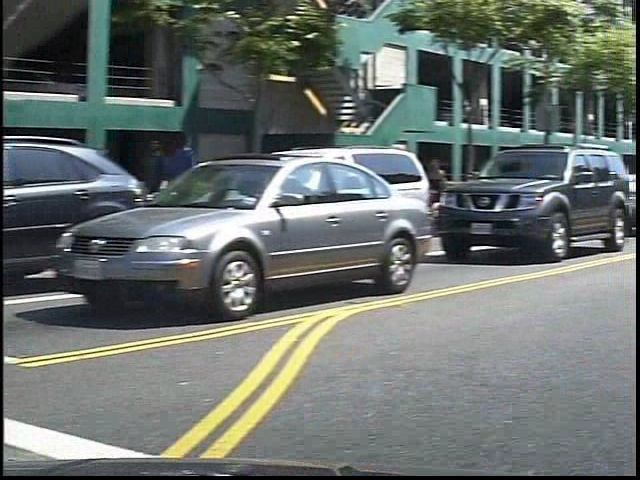person: (171, 127, 222, 247), (436, 156, 465, 230)
